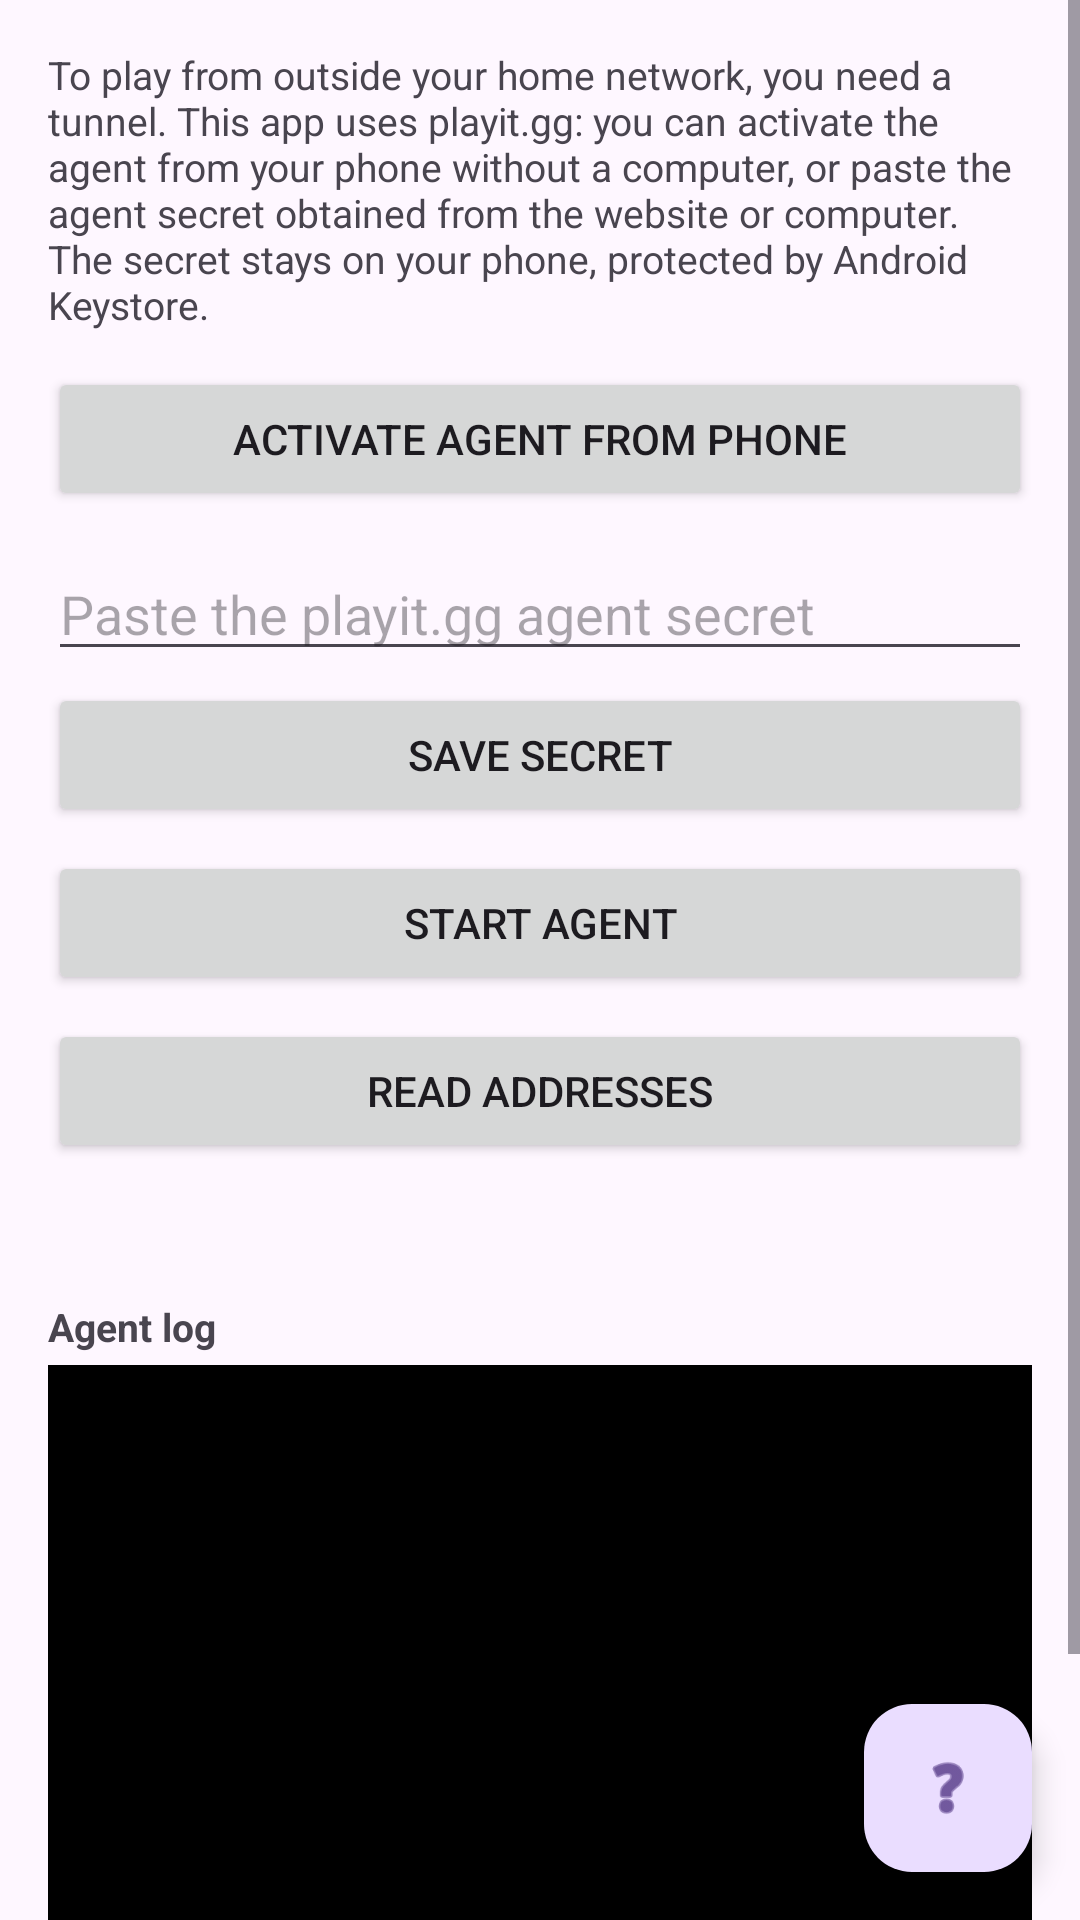

Screen size 1080×1920. Icon name, then its center in pixels as [x,y]:
Open the guide: [948,1788]
